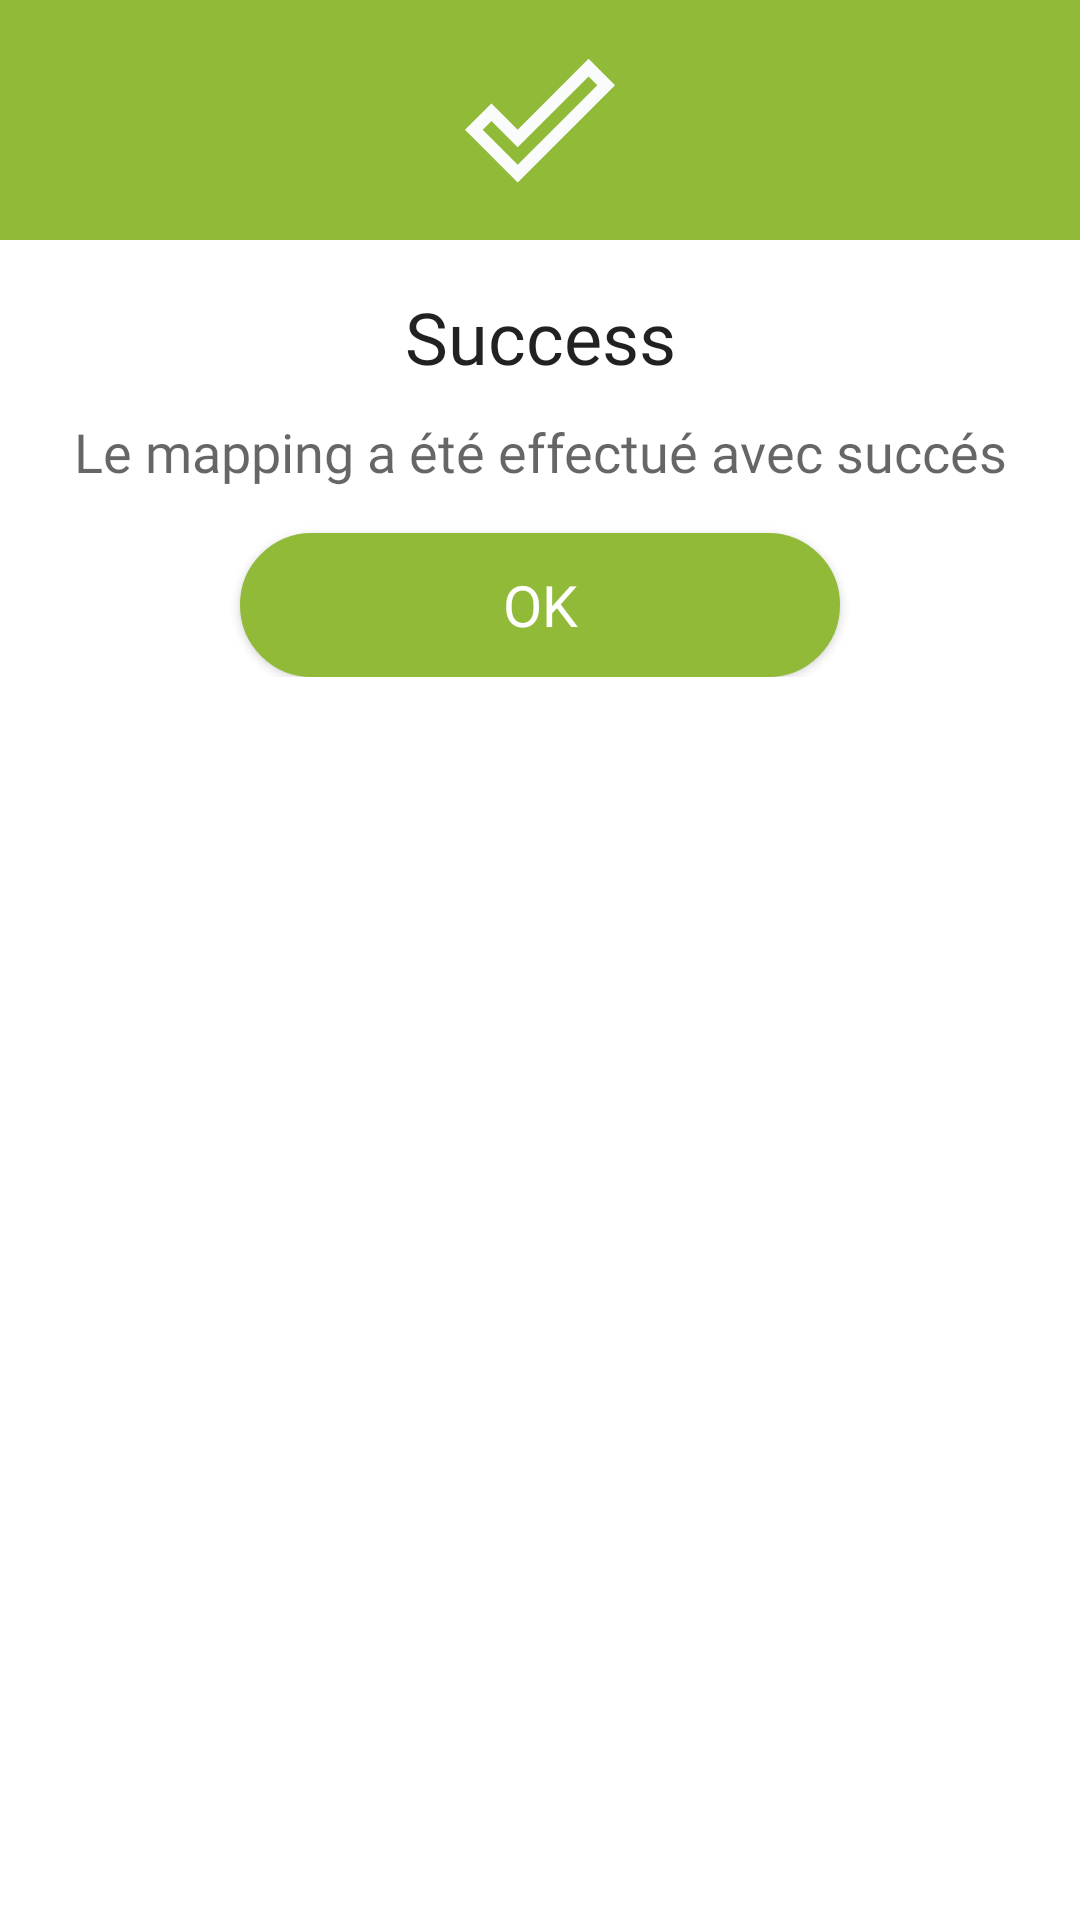

Icons on this 1080 x 1920 Android screen, each with its box as (x1, y1, x2, y2):
done: (465, 59, 615, 183)
